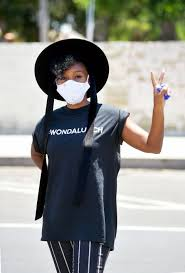mask: (56, 80, 90, 104)
